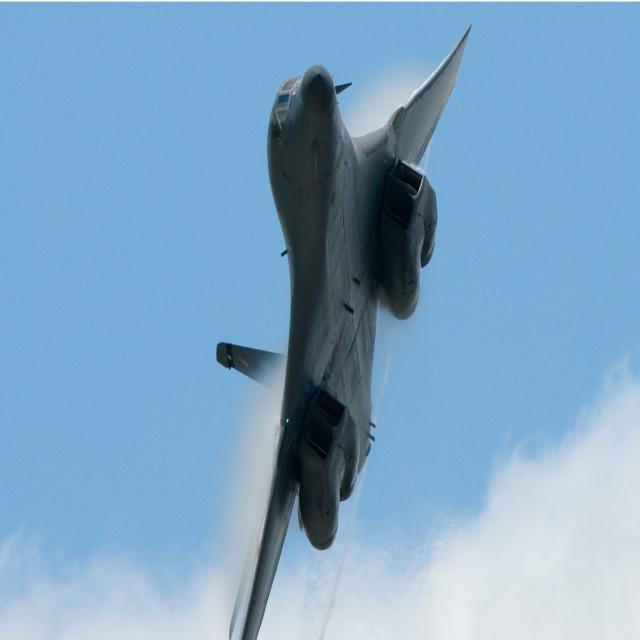MIL_Plane: (216, 23, 471, 640)
